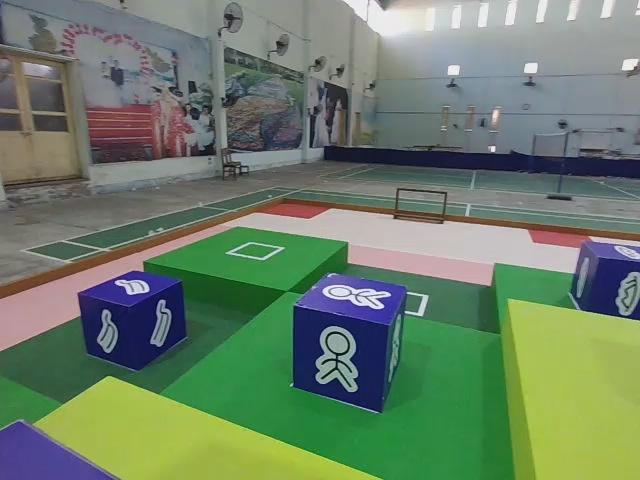R2 Real Blue: (292, 272, 409, 415), (79, 271, 189, 374), (568, 240, 638, 325)
